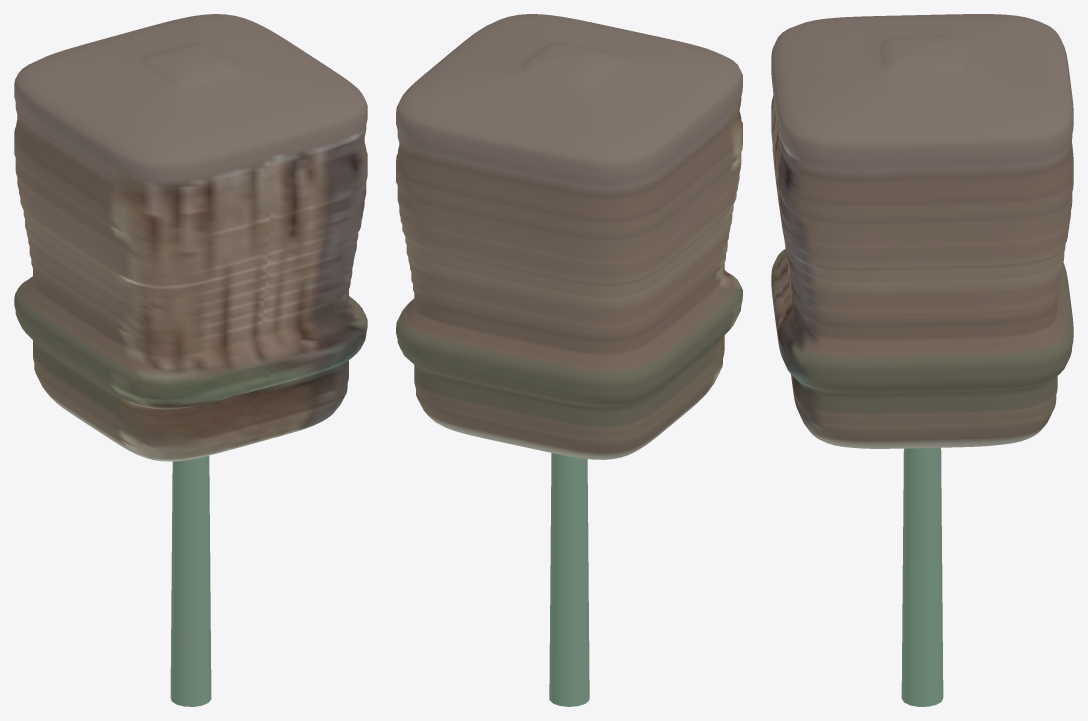
Rendered from broom-tree-0.glb.
The picture shows the model from 3 angles, left to right: view 1: azimuth 30°, elevation 25°; view 2: azimuth 150°, elevation 25°; view 3: azimuth 270°, elevation 25°; orthographic projection.
Visible parts, largest first — view 1: broom-tree-0; view 2: broom-tree-0; view 3: broom-tree-0.
Boxes of the visible parts, <box> form: broom-tree-0: <box>14,14,367,706</box>; broom-tree-0: <box>396,14,742,706</box>; broom-tree-0: <box>771,14,1073,706</box>.
Bounding box in the file's own units: 1.16 × 2.75 × 1.16.
